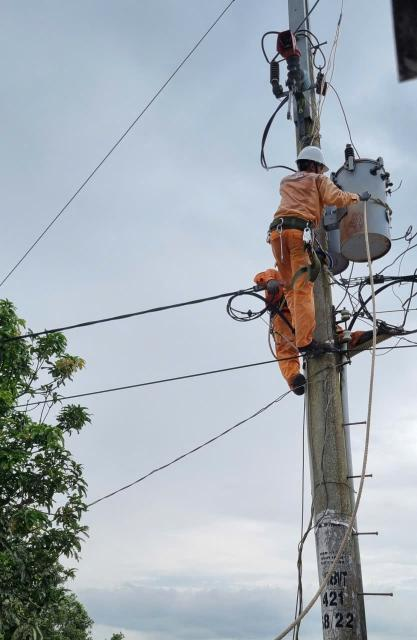gloves: (264, 280, 287, 296), (358, 183, 373, 205)
harness: (263, 214, 327, 236)
helmet: (287, 143, 340, 175)
shoes: (294, 340, 341, 358), (291, 374, 308, 395)
